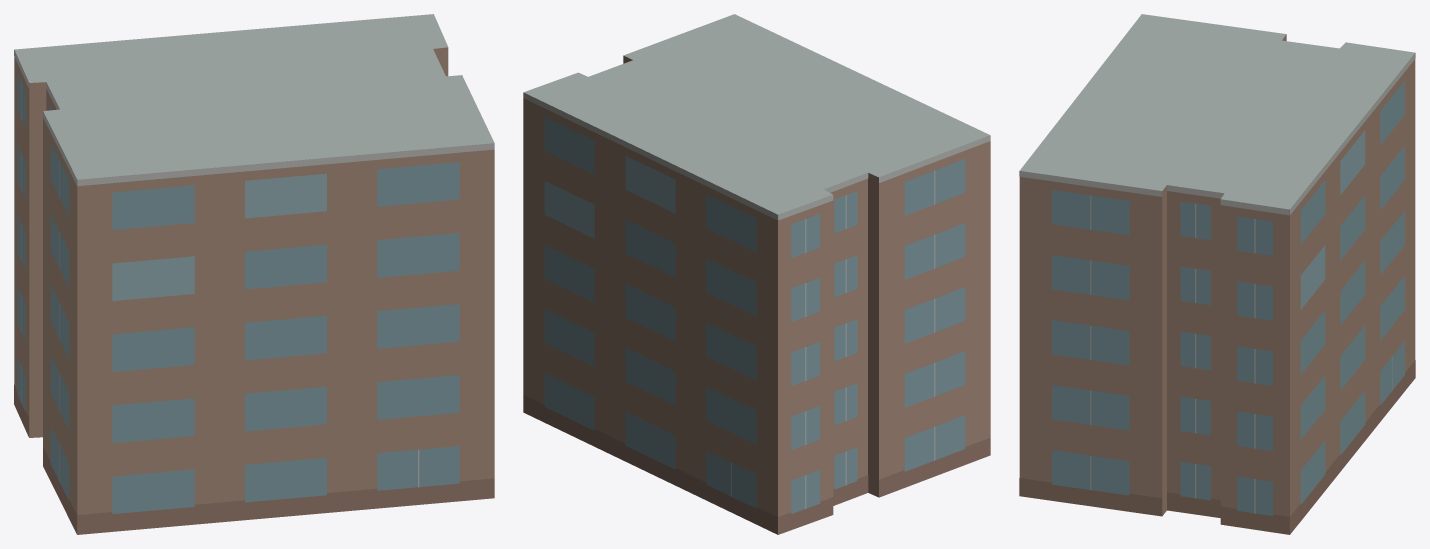
The model's file is survey-upis-32528074.glb.
The picture shows the model from 3 angles, left to right: view 1: azimuth 30°, elevation 25°; view 2: azimuth 150°, elevation 25°; view 3: azimuth 270°, elevation 25°; orthographic projection. The views are drawn at different scales.
Visible parts, largest first — view 1: survey-upis-32528074.tmp; view 2: survey-upis-32528074.tmp; view 3: survey-upis-32528074.tmp.
Part boxes in pixels (box(x1,y1,x2,y2)): survey-upis-32528074.tmp: box(14, 14, 494, 534); survey-upis-32528074.tmp: box(523, 14, 990, 534); survey-upis-32528074.tmp: box(1019, 14, 1415, 534).
Size of the model in its own units: 17.41 by 13.5 by 14.9.
